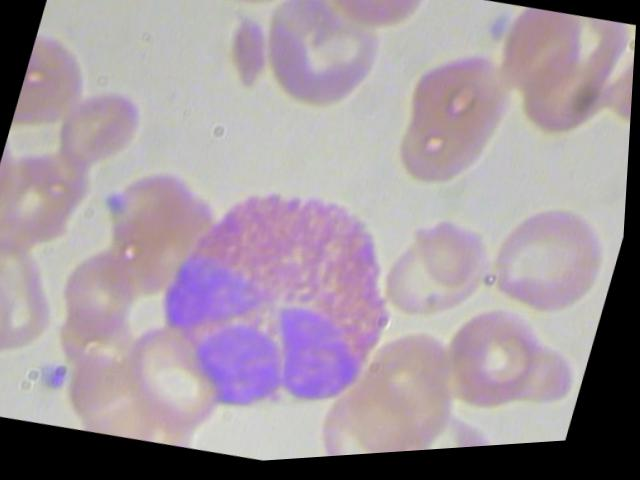Platelets: (41, 356, 80, 394)
Red Blood Cells: (380, 44, 520, 209), (240, 0, 404, 135), (480, 199, 626, 336), (370, 201, 509, 336), (9, 27, 100, 150), (54, 74, 150, 175)
White Blood Cells: (128, 160, 429, 447)
